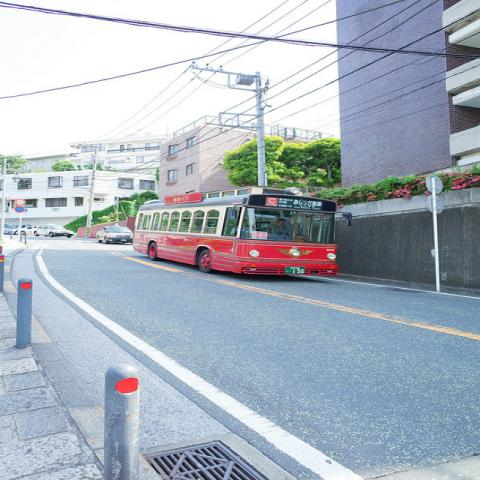bus: (132, 185, 340, 276)
car: (97, 226, 134, 244), (33, 224, 74, 238), (4, 224, 32, 235), (18, 225, 38, 235), (4, 224, 11, 229)
